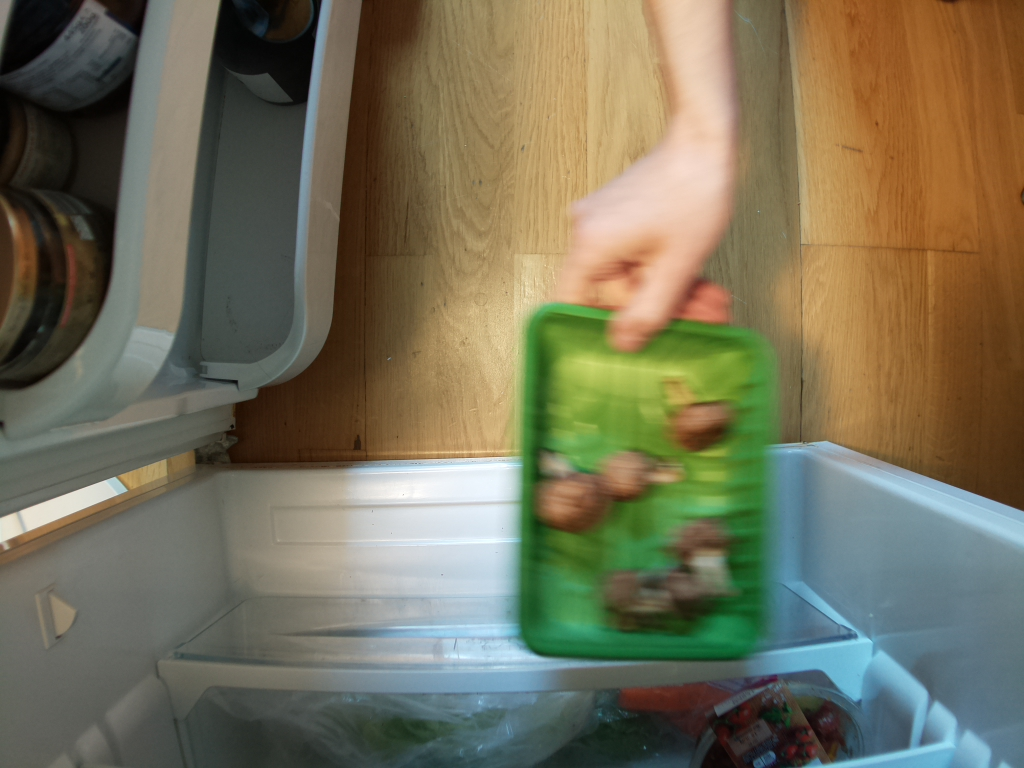mushrooms-bad: (513, 300, 780, 674)
